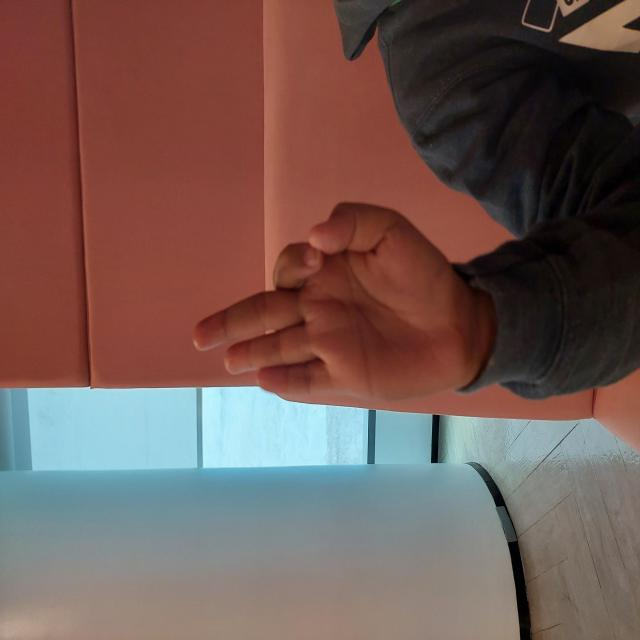F: (229, 186, 447, 489)
